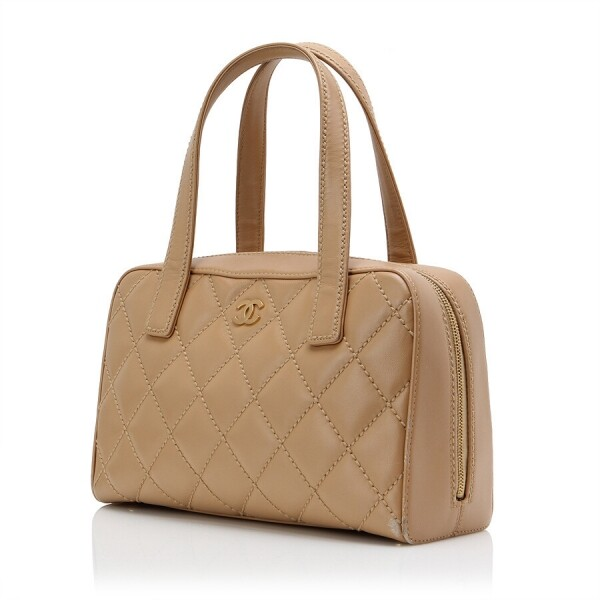channel: (87, 235, 535, 550), (203, 282, 306, 338)
